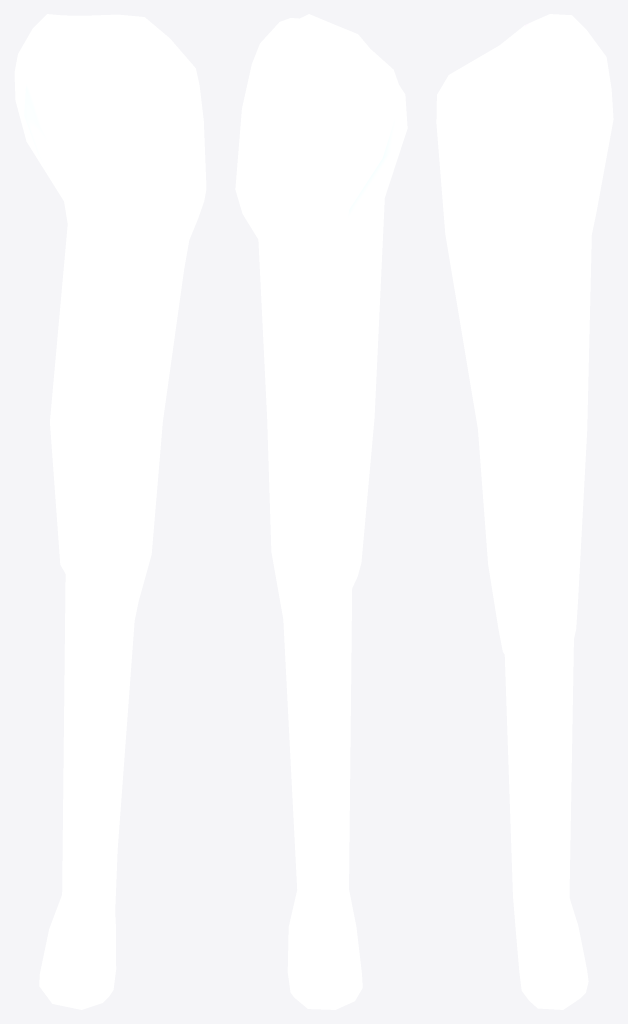
The picture shows the model from 3 angles, left to right: view 1: azimuth 30°, elevation 25°; view 2: azimuth 150°, elevation 25°; view 3: azimuth 270°, elevation 25°; orthographic projection.
Visible parts, largest first — view 1: SM_CliffTop_Ivy_01_LOD0; view 2: SM_CliffTop_Ivy_01_LOD0; view 3: SM_CliffTop_Ivy_01_LOD0.
Part boxes in pixels (bbox=[...]): SM_CliffTop_Ivy_01_LOD0: bbox=[14, 14, 206, 1009]; SM_CliffTop_Ivy_01_LOD0: bbox=[235, 14, 407, 1009]; SM_CliffTop_Ivy_01_LOD0: bbox=[436, 14, 613, 1009].
Bounding box in the file's own units: 0.1672 × 0.9823 × 0.1618.
